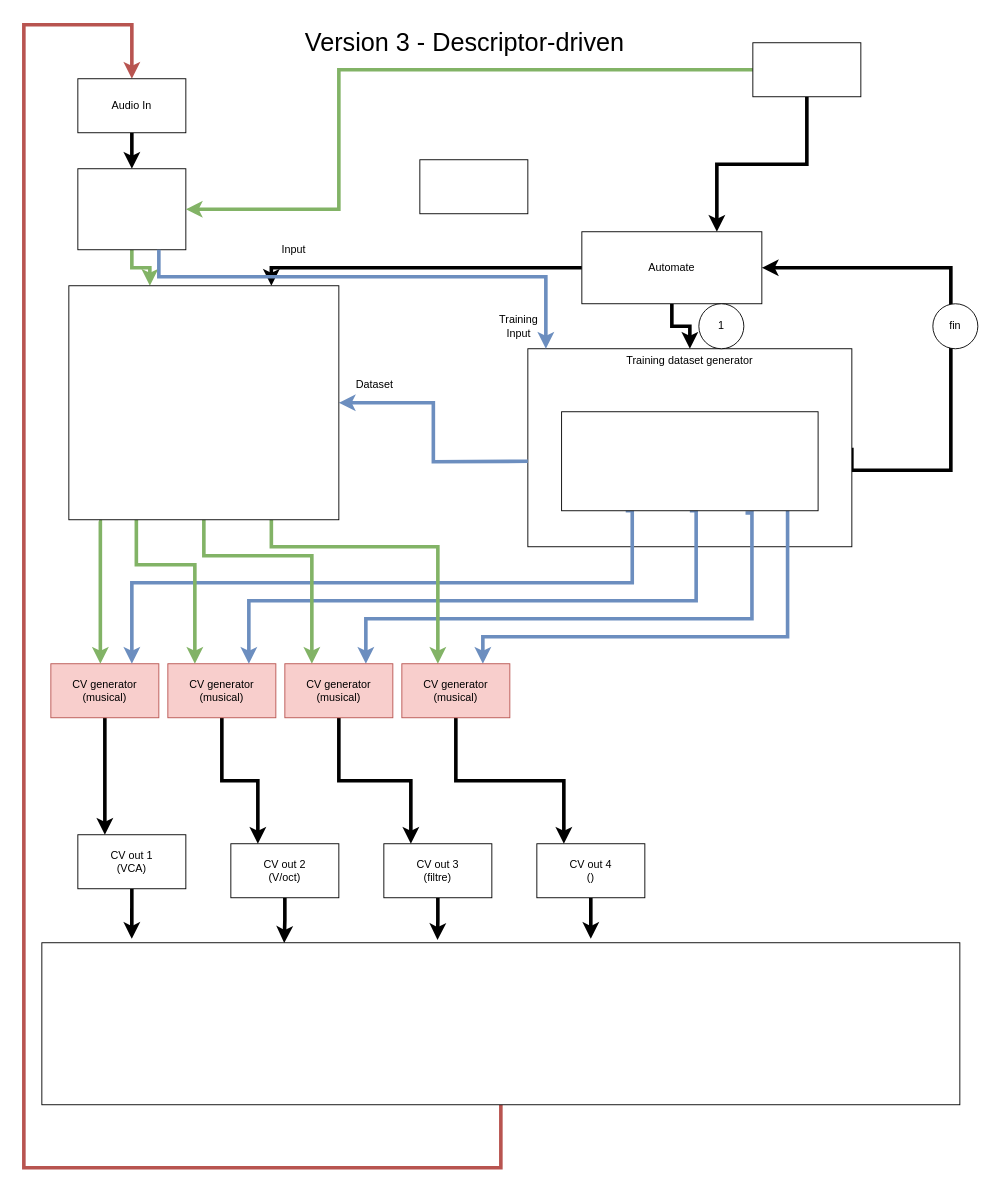
Image size: 994x1192. Some labels were removed from this diagram. Here are the shapes that lost their labels. From the top down, the centre of each, then its label:
point 806,69: Score
point 473,186: Correspondance des descripteurs ?
point 131,209: Analyzer - descriptors
point 203,402: Modèle variable (régression, Neural Nets, etc.)
point 689,461: Tableau CV aléatoire
point 500,1023: Modulaire
